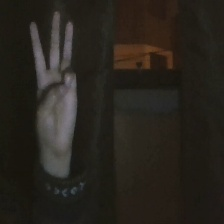W: (20, 3, 89, 159)
